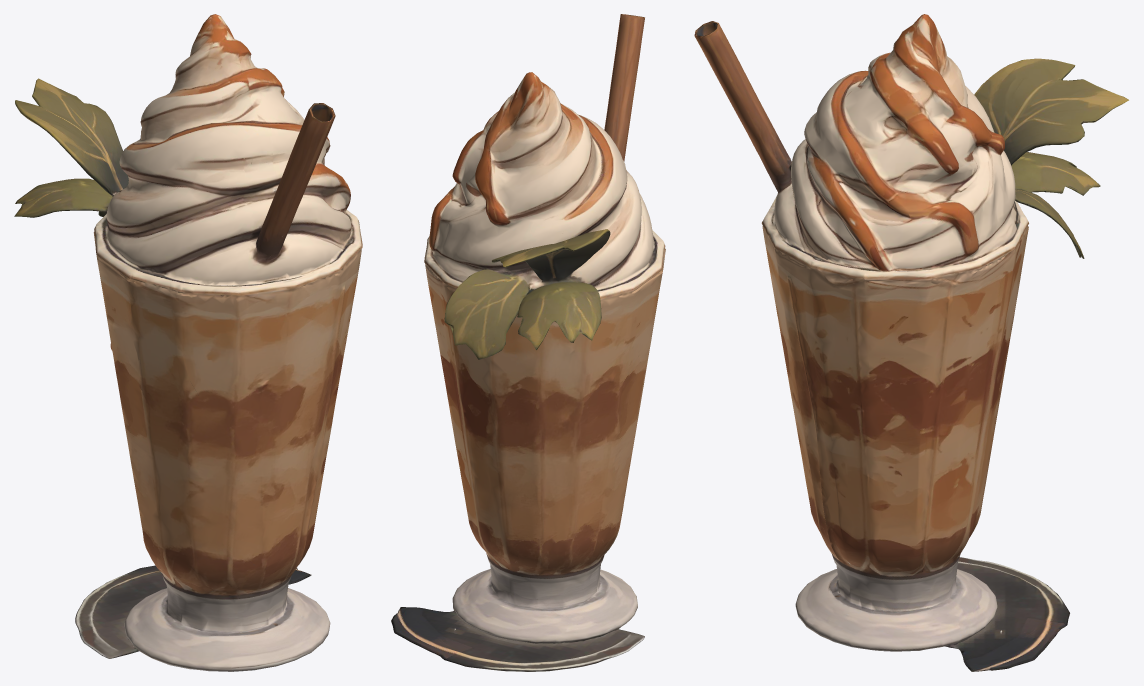
The picture shows the model from 3 angles, left to right: view 1: azimuth 30°, elevation 25°; view 2: azimuth 150°, elevation 25°; view 3: azimuth 270°, elevation 25°; orthographic projection. The views are drawn at different scales.
Parts seen in each view (by area): view 1: tripo_node_2fb90389-a7f6-4635-96e2-5d18906d2d36; view 2: tripo_node_2fb90389-a7f6-4635-96e2-5d18906d2d36; view 3: tripo_node_2fb90389-a7f6-4635-96e2-5d18906d2d36.
Part boxes in pixels (x1,y1,x2,y2): tripo_node_2fb90389-a7f6-4635-96e2-5d18906d2d36: (14, 14, 362, 671); tripo_node_2fb90389-a7f6-4635-96e2-5d18906d2d36: (391, 14, 665, 671); tripo_node_2fb90389-a7f6-4635-96e2-5d18906d2d36: (694, 14, 1128, 671).
Bounding box in the file's own units: 0.4385 × 0.9998 × 0.6556.
1 material, 1 textured.
